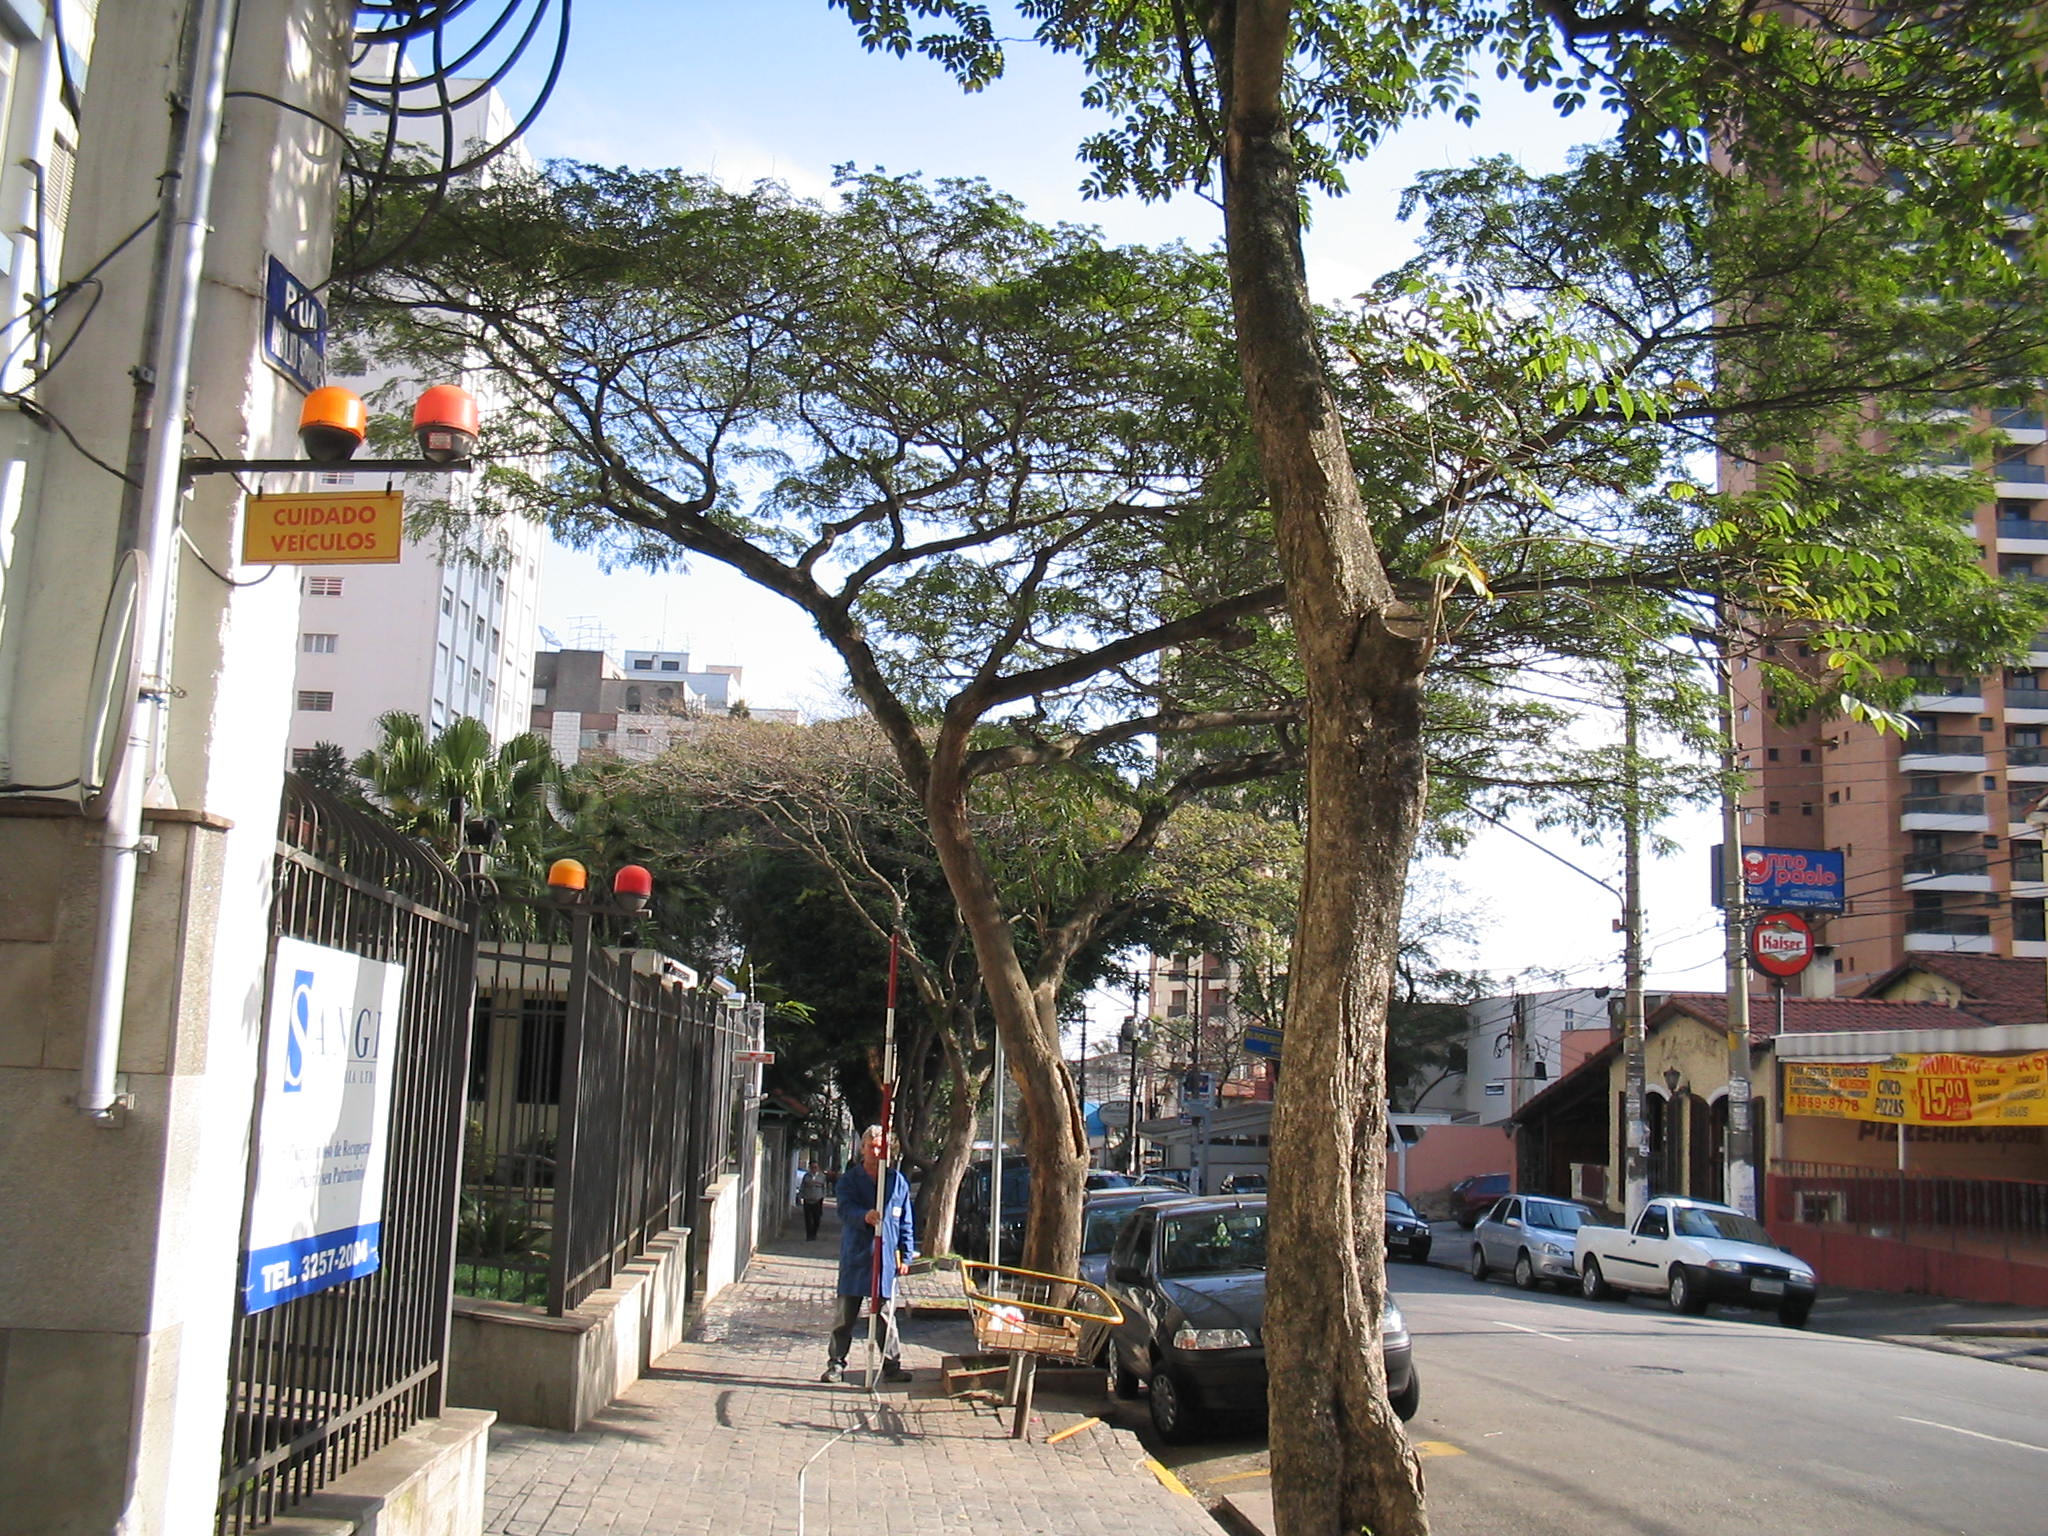crown: (340, 123, 1932, 765)
stem: (1226, 770, 1480, 1533), (968, 1062, 1121, 1368)
stick: (850, 933, 913, 1391)
tree: (335, 116, 2042, 1368)
